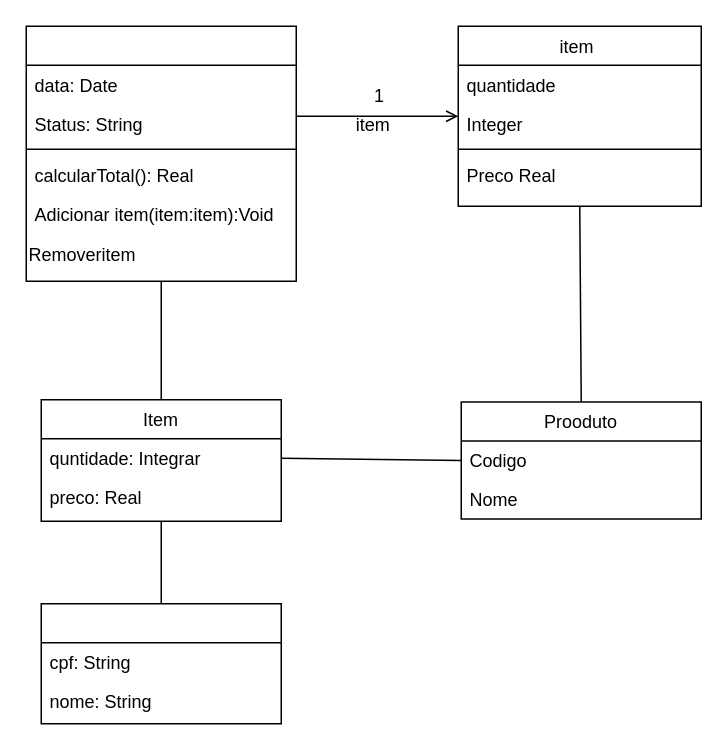
Some shapes in this 728 by 752 pixel diagram are drawn without their labels. The box of each missing label's shape, as (x1, y1, x2, y2) in pixels:
Cliente: (40, 602, 281, 724)
Pedido: (25, 25, 296, 281)
